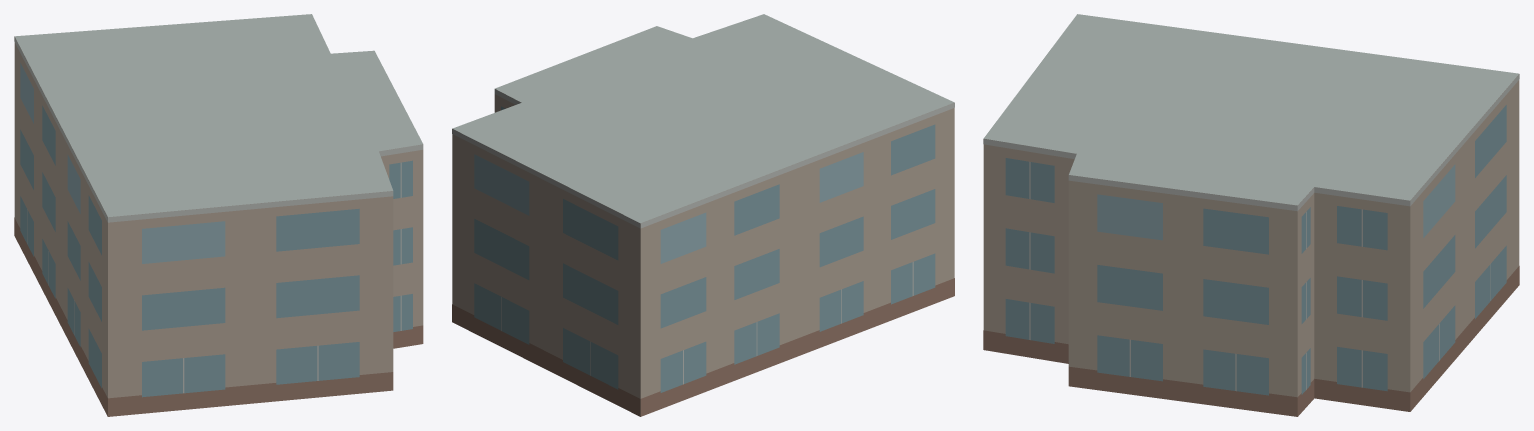
Rendered from survey-upis-32480544.glb.
3 views of the same model, side by side, from view 1: azimuth 30°, elevation 25°; view 2: azimuth 150°, elevation 25°; view 3: azimuth 270°, elevation 25° (orthographic). The views are drawn at different scales.
Parts seen in each view (by area): view 1: survey-upis-32480544.tmp; view 2: survey-upis-32480544.tmp; view 3: survey-upis-32480544.tmp.
Part boxes in pixels (x1,y1,x2,y2): survey-upis-32480544.tmp: [14, 14, 423, 416]; survey-upis-32480544.tmp: [452, 14, 954, 416]; survey-upis-32480544.tmp: [983, 14, 1519, 416].
Size of the model in its own units: 17.5 by 9 by 20.69.
